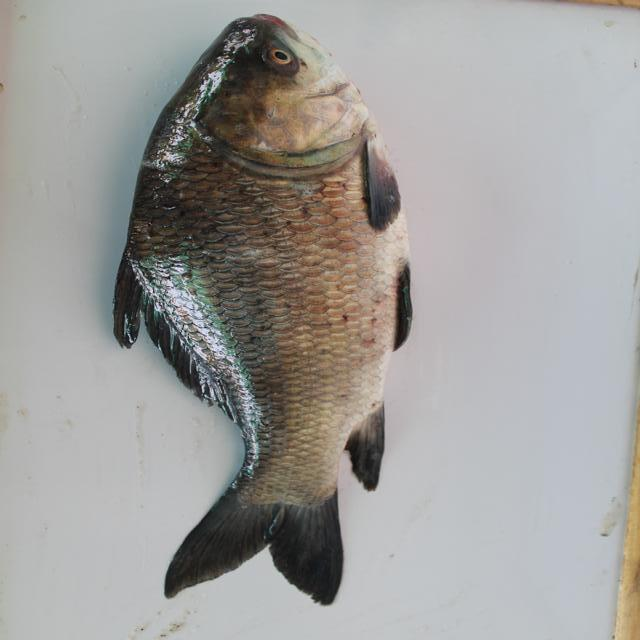Catla: (110, 12, 415, 604)
